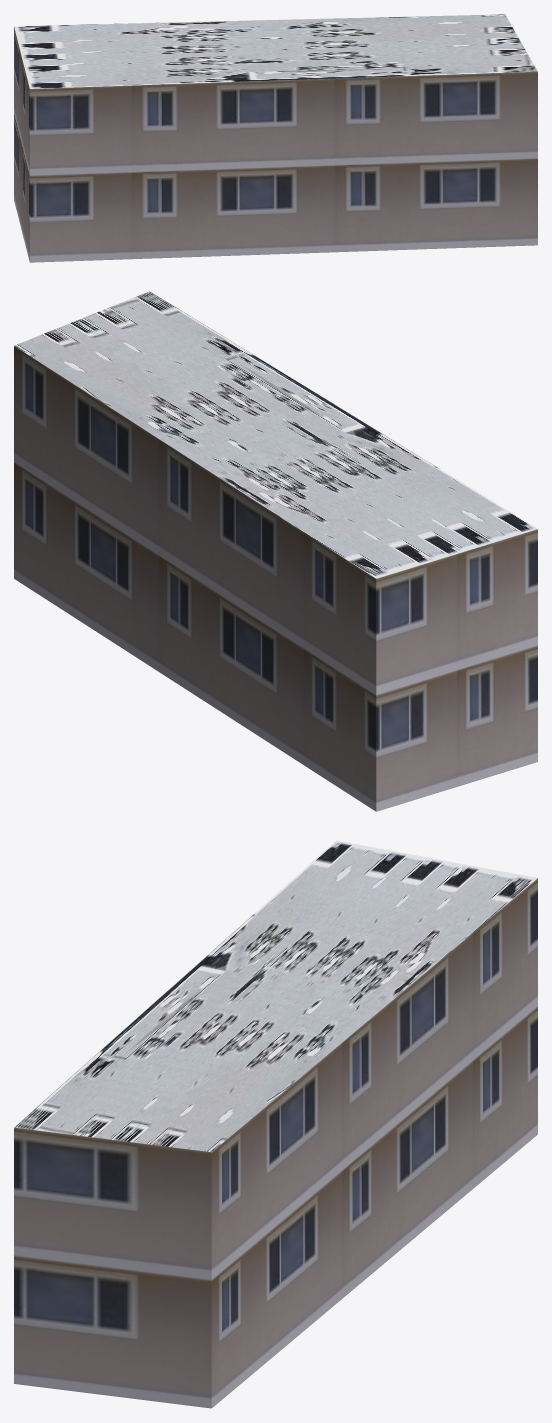
File: ResTex__5138.fbx
The picture shows the model from 3 angles, top to bottom: view 1: azimuth 30°, elevation 25°; view 2: azimuth 150°, elevation 25°; view 3: azimuth 270°, elevation 25°; orthographic projection. The views are drawn at different scales.
Parts seen in each view (by area): view 1: CityEngineMaterial_21_m, CityEngineMaterial_8_m; view 2: CityEngineMaterial_21_m, CityEngineMaterial_8_m; view 3: CityEngineMaterial_21_m, CityEngineMaterial_8_m.
Part boxes in pixels (box(x1,y1,x2,y2)): CityEngineMaterial_21_m: box(14, 27, 537, 262); CityEngineMaterial_8_m: box(14, 14, 537, 88); CityEngineMaterial_21_m: box(14, 346, 537, 811); CityEngineMaterial_8_m: box(14, 291, 537, 578); CityEngineMaterial_21_m: box(14, 878, 537, 1408); CityEngineMaterial_8_m: box(14, 840, 537, 1152).
Size of the model in its own units: 15.66 by 6 by 11.12.
2 materials, 2 textured.
